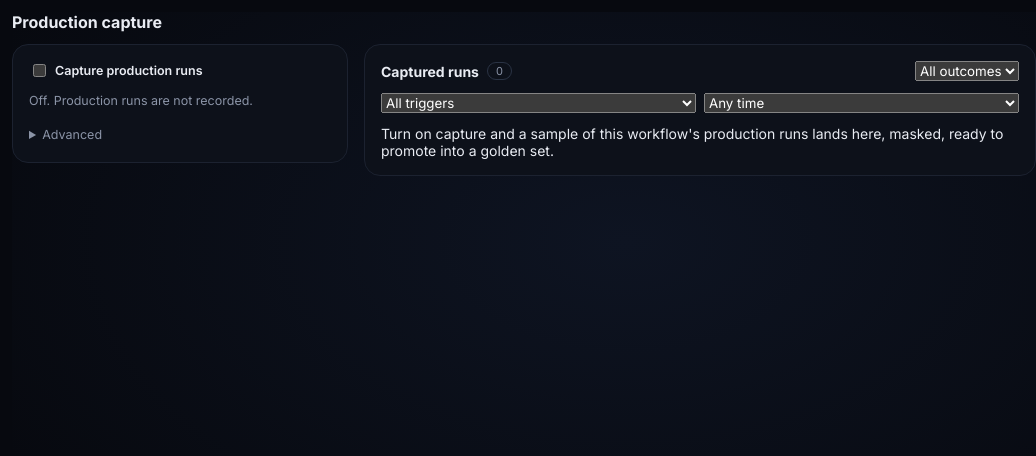
Test case: CaptureInbox › shows an empty inbox and turns capture on with the defaults in one click
Expected: the text "Turn on capture and a sample" is shown, [381, 125, 1003, 159]
Expected: the text "Off. Production runs are not recorded." is shown, [29, 93, 253, 108]
Click the checkbox labelled "Capture production runs". click: (40, 70)
box: [33, 64, 46, 77]
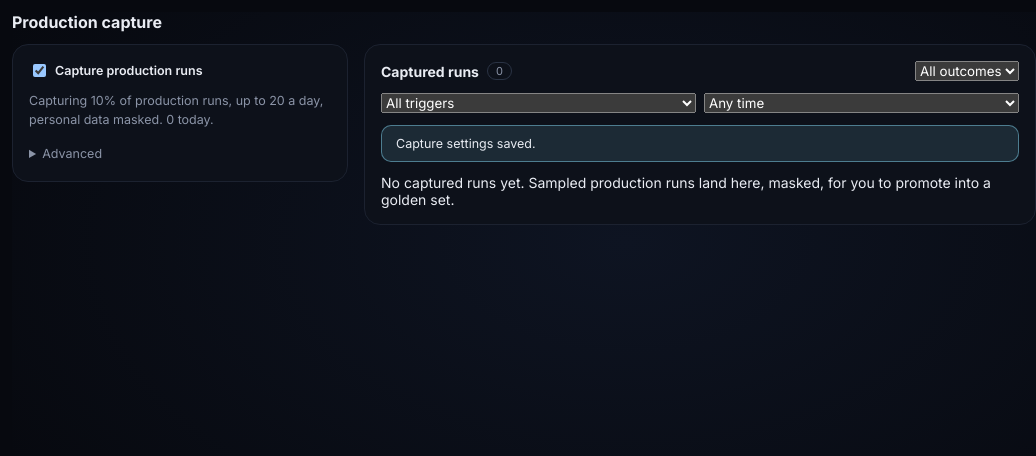
Now the text "Capturing 10% of production runs, up to 20 a day, personal data masked" is shown, box [29, 93, 323, 127]
